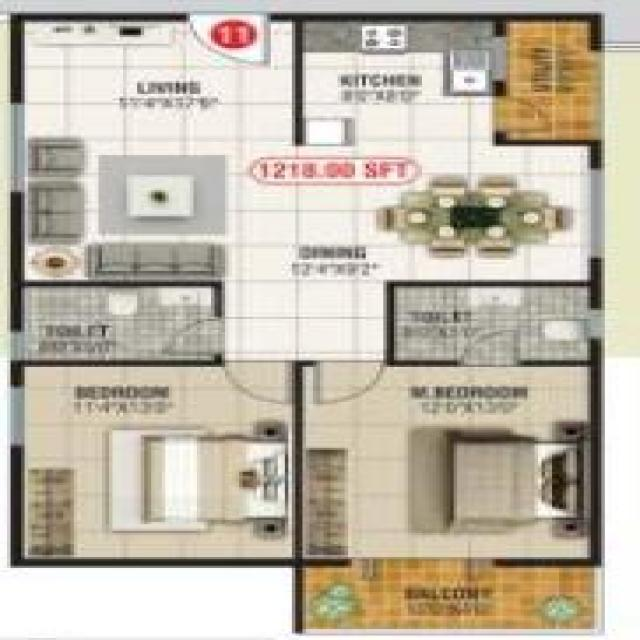Balcony-Sitout: (304, 568, 603, 631)
Bedroom: (23, 368, 304, 564)
Bedroom with Toilet: (303, 280, 599, 559)
Dining: (367, 173, 580, 265)
Enterance-Foyer: (180, 5, 277, 67)
Kitchen: (300, 14, 503, 147)
Living: (21, 21, 295, 279)
Toilet: (394, 287, 592, 364), (25, 289, 217, 360)
Utility: (497, 16, 603, 143)
